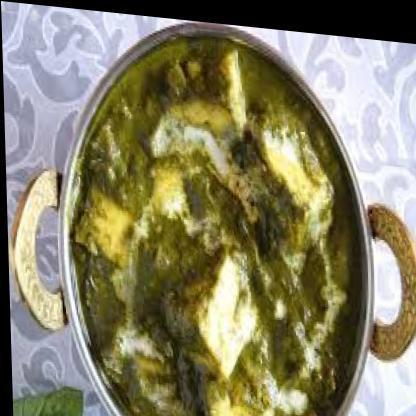palak_paneer: (63, 21, 364, 416)
